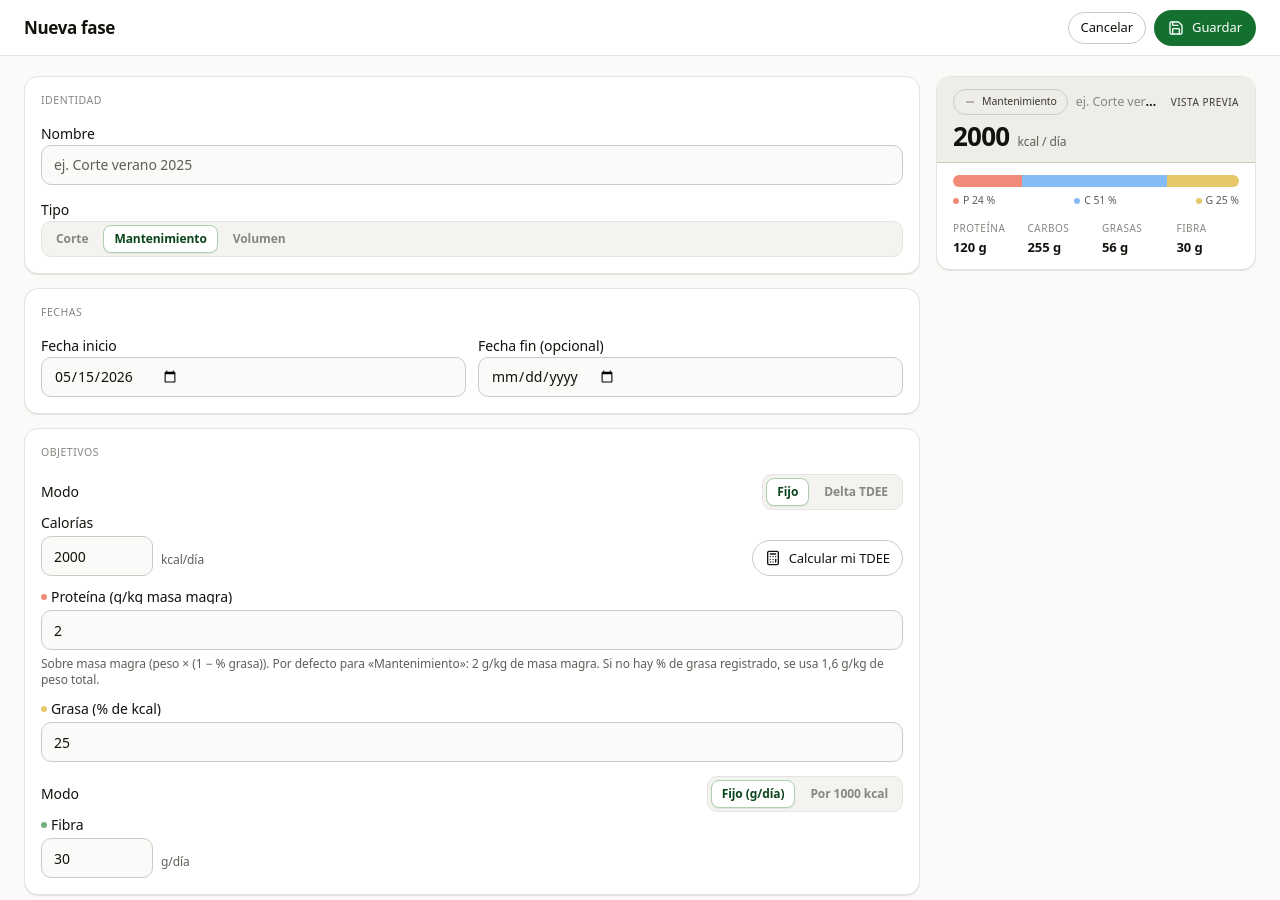
Test: PhaseEditorPage — the live preview (B2) › typing a comma fat percent reaches the preview as the R-06 fraction
Replace the text in the field labelled "Grasa (% de kcal)" with "27,5" at (472, 742), box [41,722,903,762]
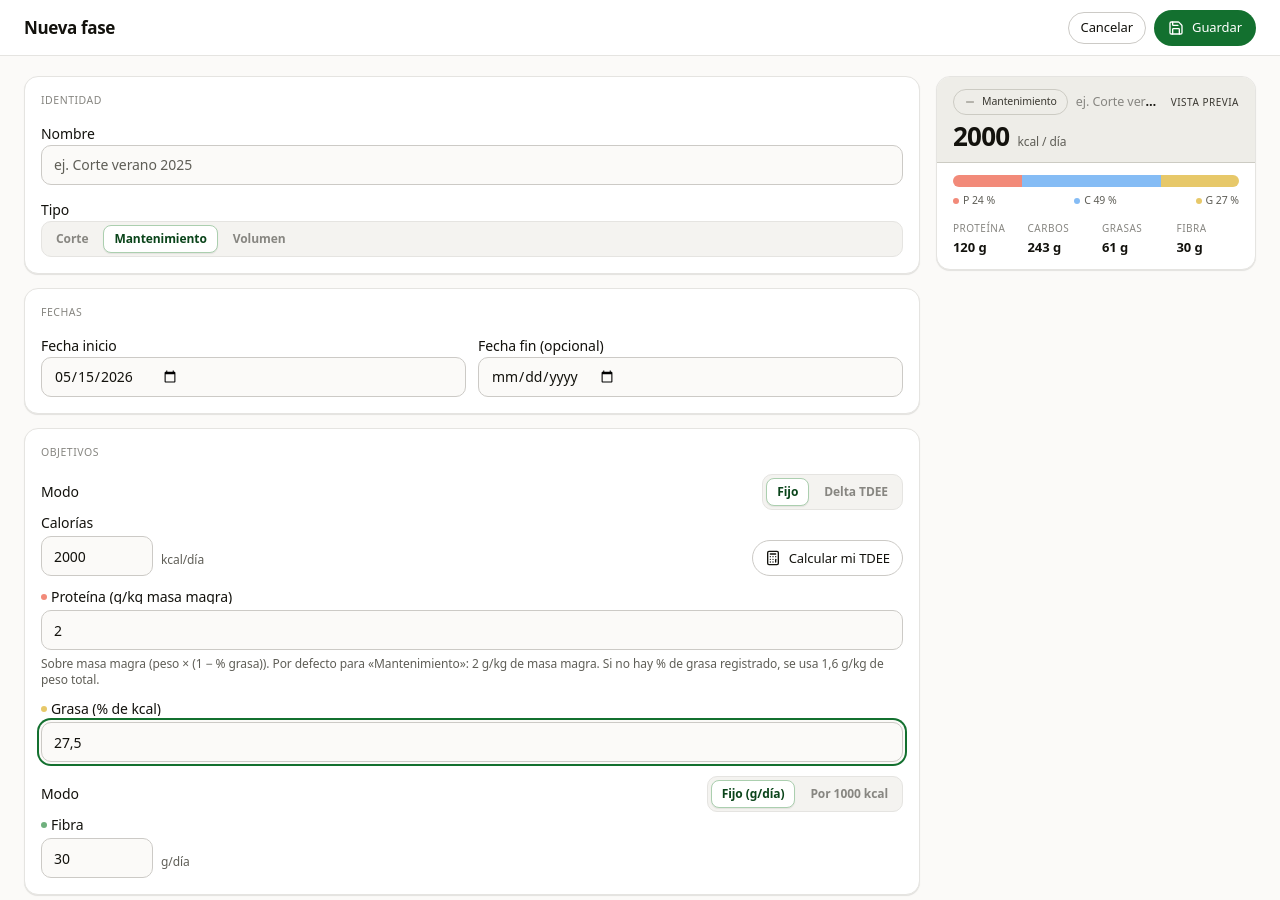
Expected: the text "61 g" is shown, [1102,238,1128,256]
